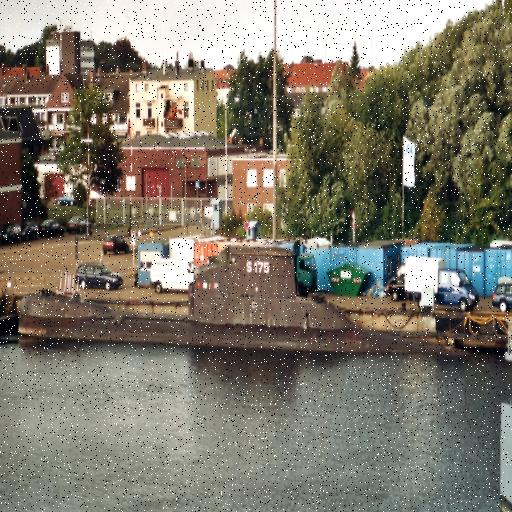submarine: (18, 246, 472, 353)
